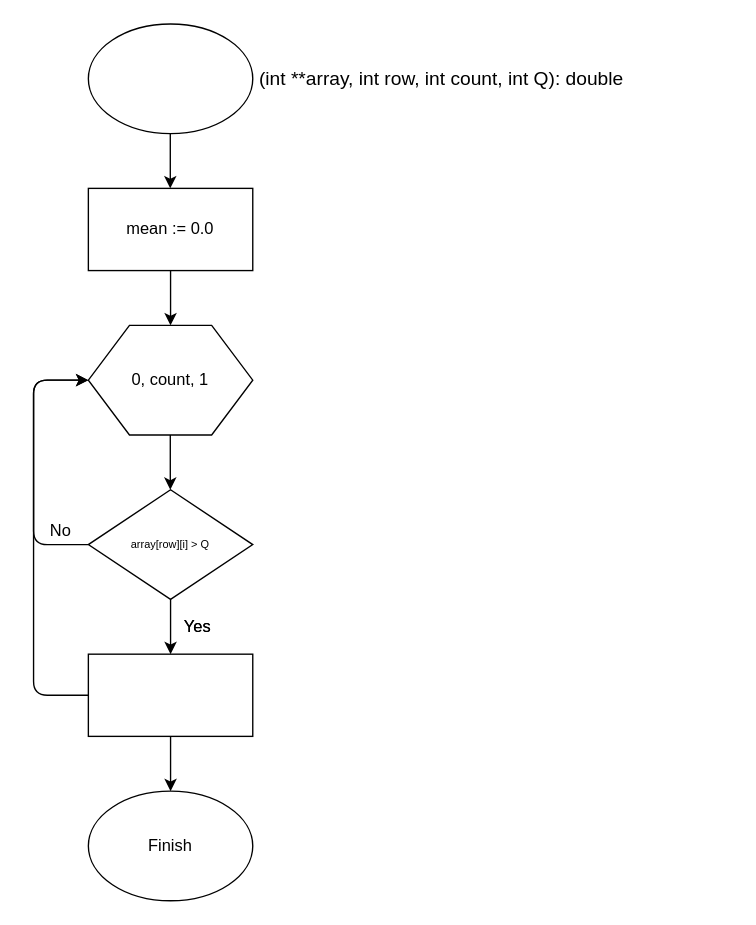
The diagram is 756 pixels wide and 925 high, and some of its shapes have lost their labels. The box of each missing label's shape, as (x1, y1, x2, y2) in pixels:
mean += array[row][i]: (87, 653, 253, 736)
meanForRow: (87, 23, 253, 134)
